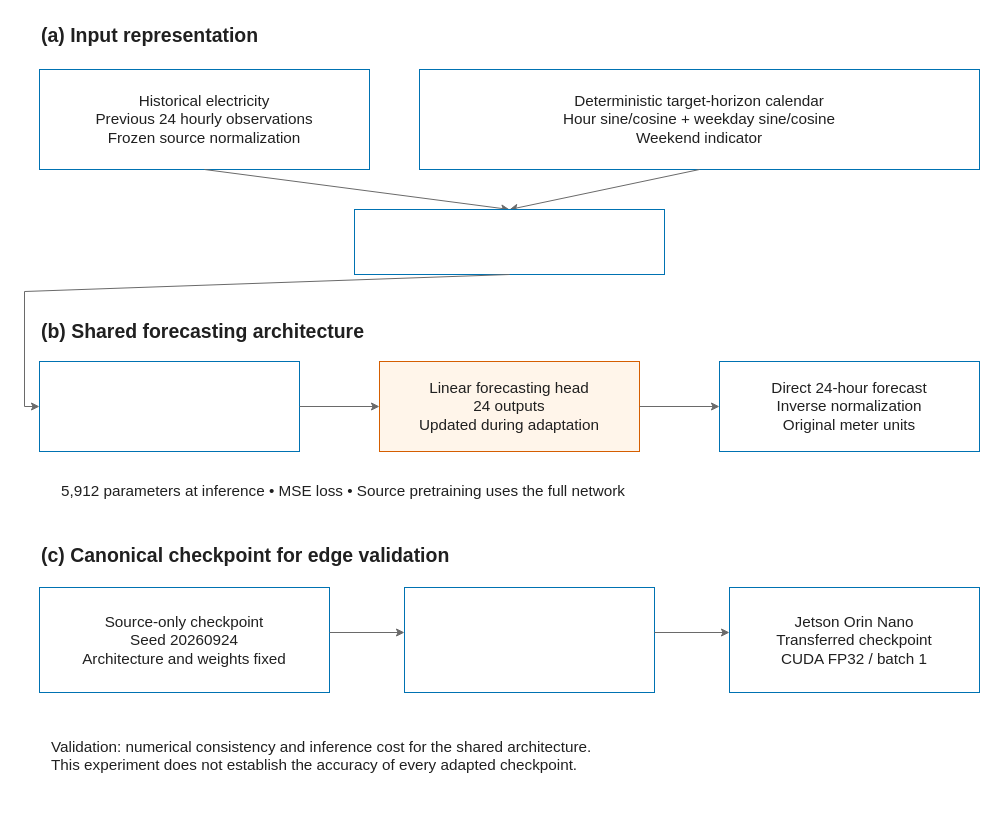
This 997x818 diagram has some shape labels left out. Here are the shapes that lost their labels. From the top down, the centre of each, then its label:
At (x=509, y=241): "Input sequence: 24 × 6 1 electricity + 5 calendar variables".
At (x=169, y=406): "Single-layer LSTM Hidden size 32 Frozen during target adaptation".
At (x=529, y=639): "RTX 3080 Reference inference CUDA FP32 / batch 1".
